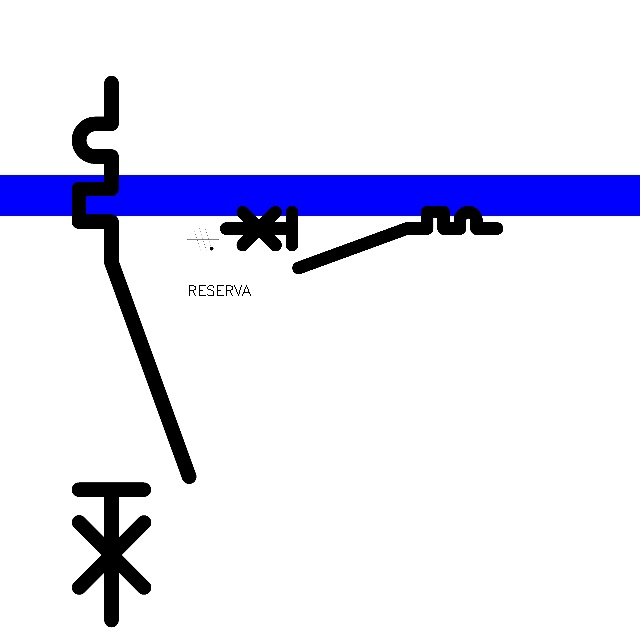interruptor_termomagnetico: (65, 69, 203, 634), (219, 205, 504, 274)
